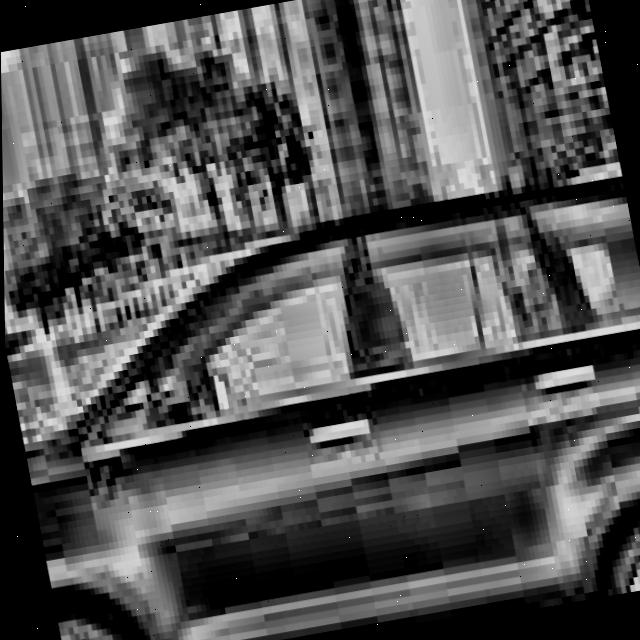light_vehicle: (2, 161, 640, 640)
